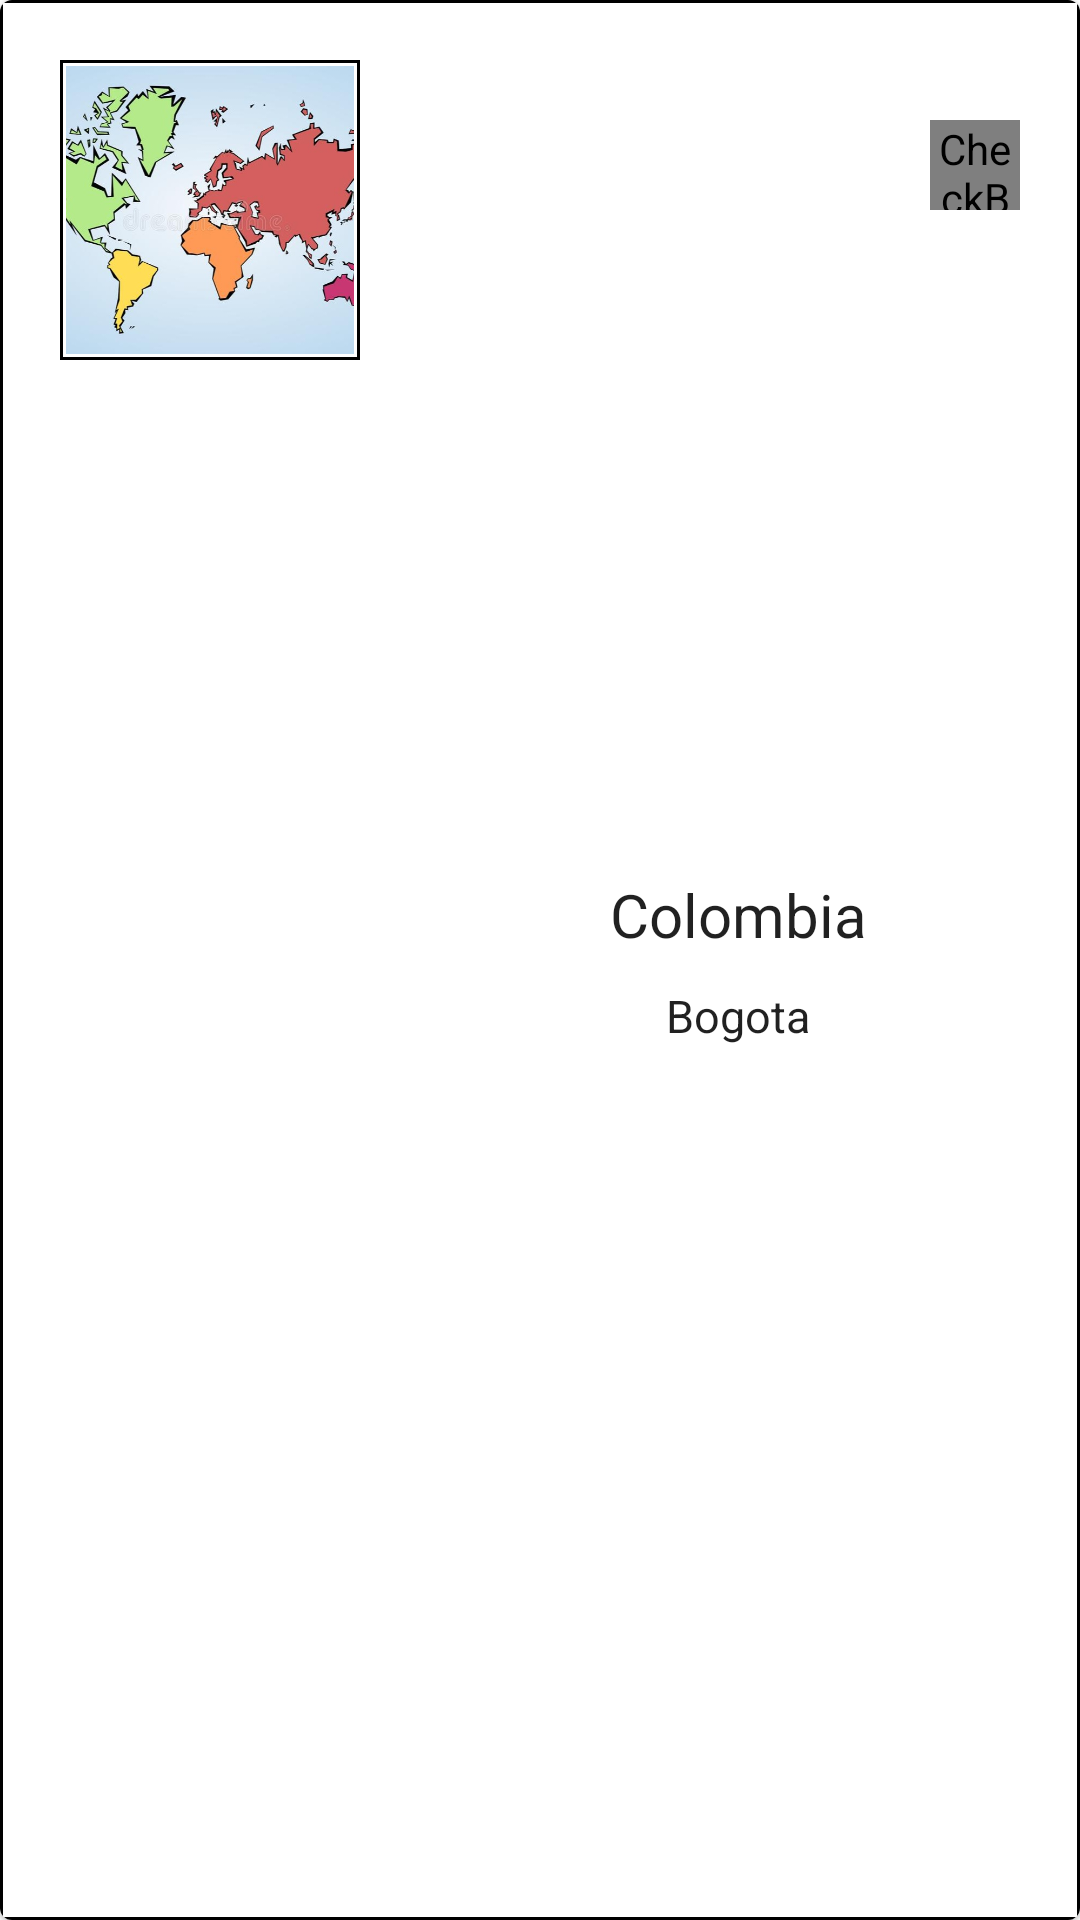

Screen size 1080 x 1920. Icon name, then its center in pixels as (x,y):
mapa adobespark: (210,210)
